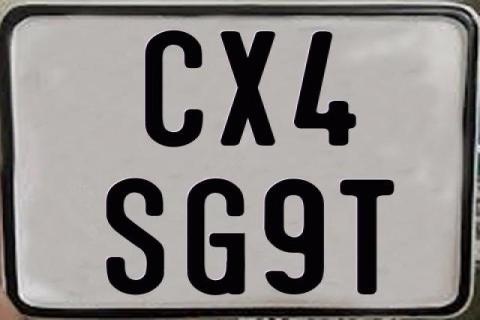0: (291, 30, 357, 150), (261, 176, 322, 294)
C: (144, 29, 204, 147)
G: (186, 178, 247, 298)
S: (104, 176, 164, 295)
T: (338, 179, 398, 297)
X: (219, 31, 277, 148)
